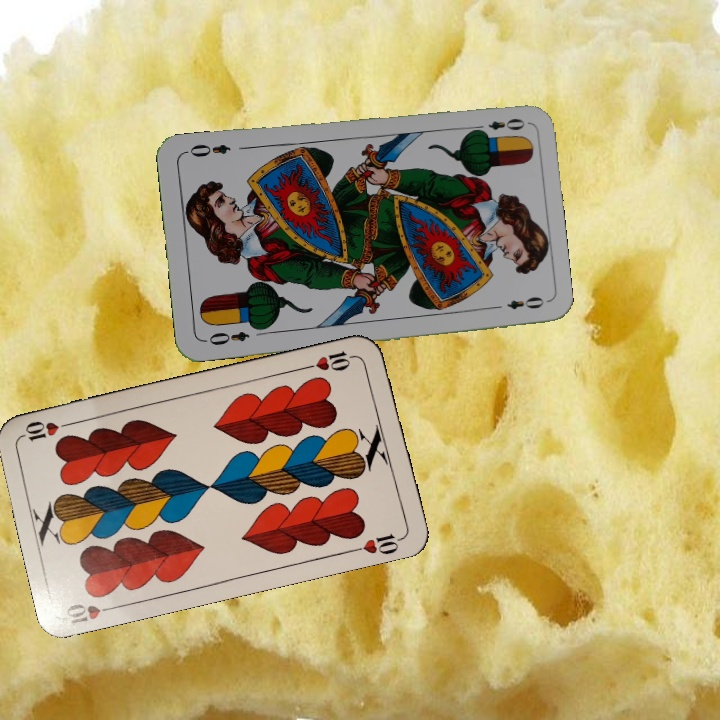EO: (469, 114, 528, 137), (200, 327, 252, 348)
H10: (62, 599, 121, 627), (302, 347, 360, 374)
